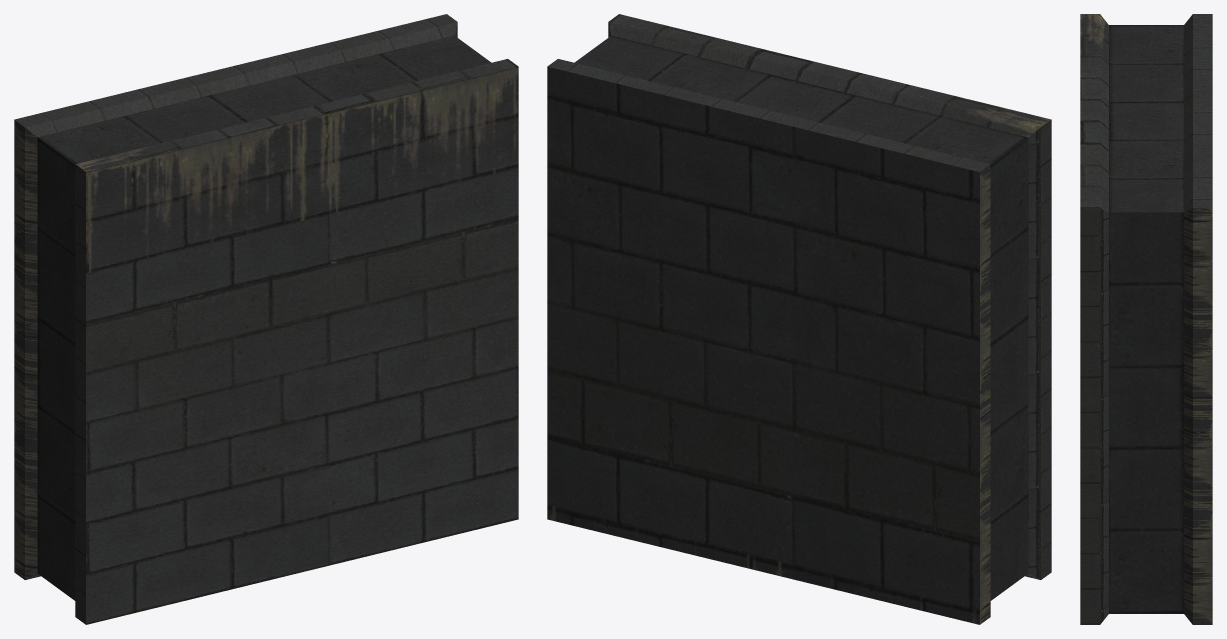
File: Candi_03.fbx
3 renders of one model, left to right at view 1: azimuth 30°, elevation 25°; view 2: azimuth 150°, elevation 25°; view 3: azimuth 270°, elevation 25°, orthographic. The views are drawn at different scales.
Visible parts, largest first — view 1: Candi_03; view 2: Candi_03; view 3: Candi_03.
Boxes of the visible parts, <box> form: Candi_03: <box>14,14,518,624</box>; Candi_03: <box>547,14,1051,624</box>; Candi_03: <box>1080,14,1212,624</box>.
Bounding box in the file's own units: 313 × 313 × 90.12.
Materials: 1 (1 with a texture image).
